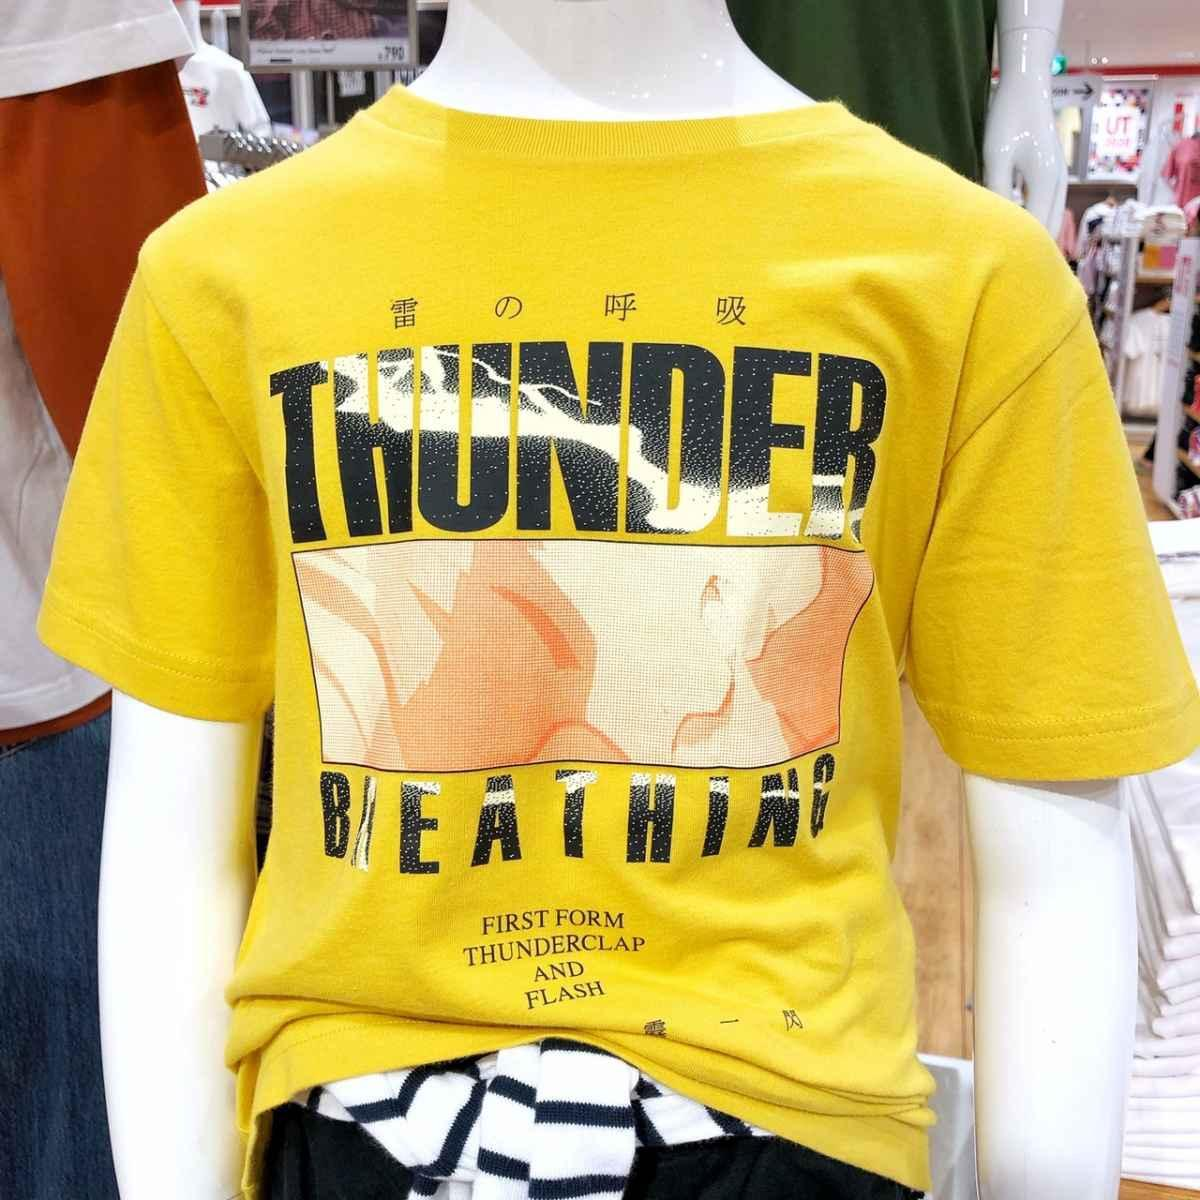Tshirt: (31, 88, 1113, 1092)
